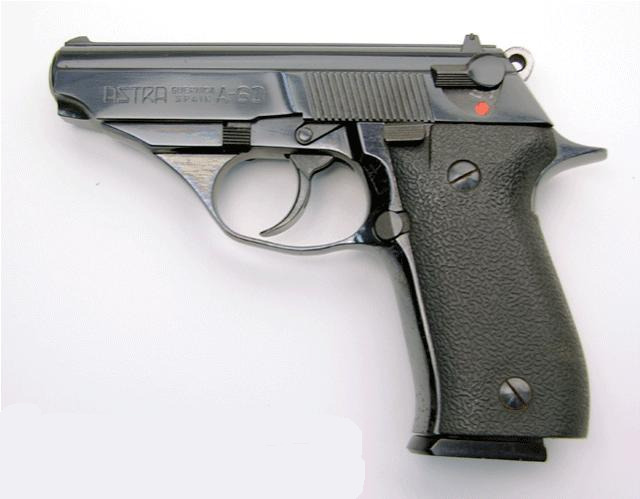gun: (43, 27, 612, 469)
